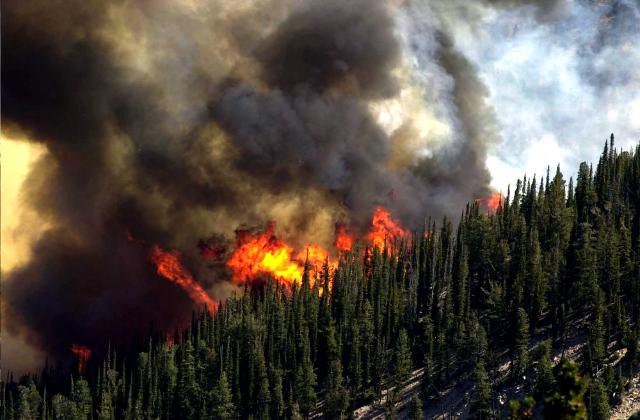fire: (2, 131, 638, 419)
